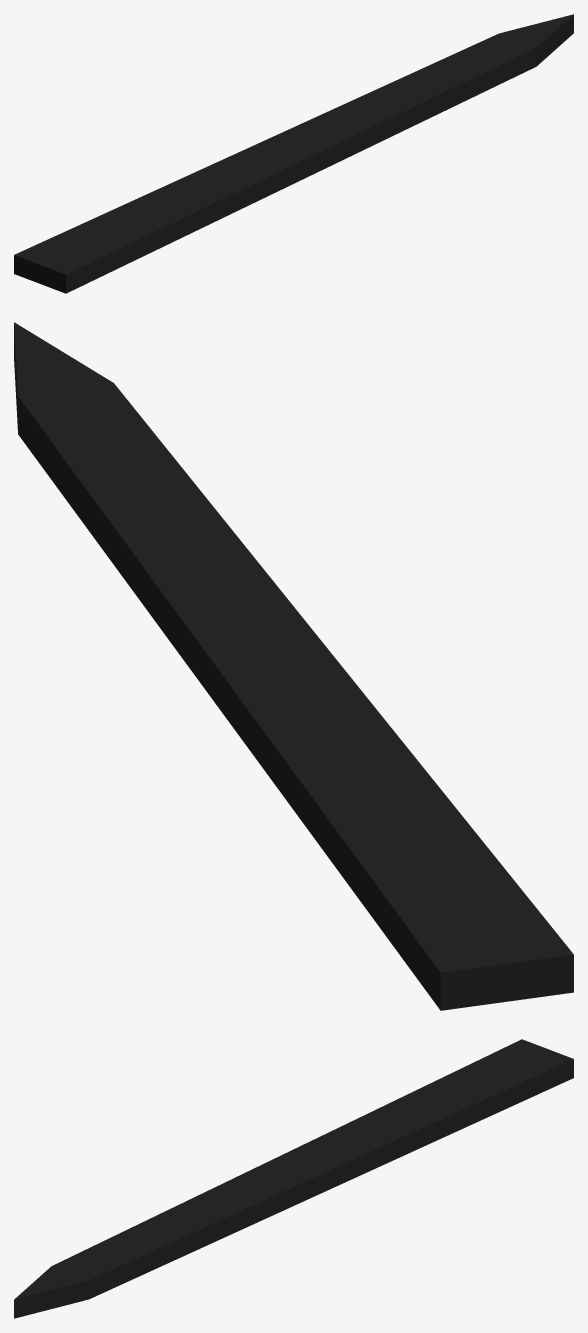
Rendered from lp_clkhand_m08.obj.
3 views of the same model, one above another, from view 1: azimuth 90°, elevation 25°; view 2: azimuth 150°, elevation 25°; view 3: azimuth 270°, elevation 25° (orthographic). The views are drawn at different scales.
Visible parts, largest first — view 1: lp_clkhand_m08; view 2: lp_clkhand_m08; view 3: lp_clkhand_m08.
Part boxes in pixels (x1=…): lp_clkhand_m08: x1=14, y1=14, x2=573, y2=293; lp_clkhand_m08: x1=14, y1=322, x2=573, y2=1010; lp_clkhand_m08: x1=14, y1=1039, x2=573, y2=1318.
Size of the model in its own units: 0.8806 by 0.03 by 0.8.
Materials: 1 (1 with a texture image).
